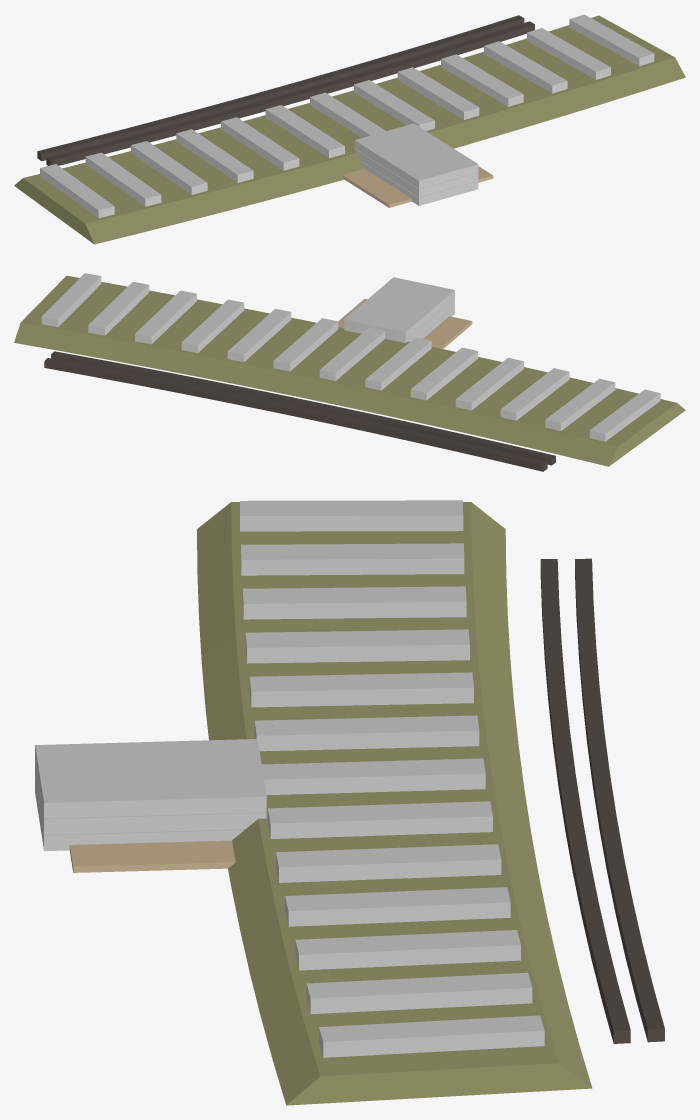
Rendered from SM_Via_CurvaR120_v3_Obra_LOD1.fbx.
3 renders of one model, top to bottom at view 1: azimuth 30°, elevation 25°; view 2: azimuth 150°, elevation 25°; view 3: azimuth 270°, elevation 25°, orthographic. The views are drawn at different scales.
Parts seen in each view (by area): view 1: SM_via_trazado_v18_LOD1; view 2: SM_via_trazado_v18_LOD1; view 3: SM_via_trazado_v18_LOD1.
Boxes of the visible parts, <box> form: SM_via_trazado_v18_LOD1: <box>14,14,685,244</box>; SM_via_trazado_v18_LOD1: <box>14,273,685,471</box>; SM_via_trazado_v18_LOD1: <box>35,500,664,1105</box>.
Size of the model in its own units: 15.9 by 0.63 by 7.34.
